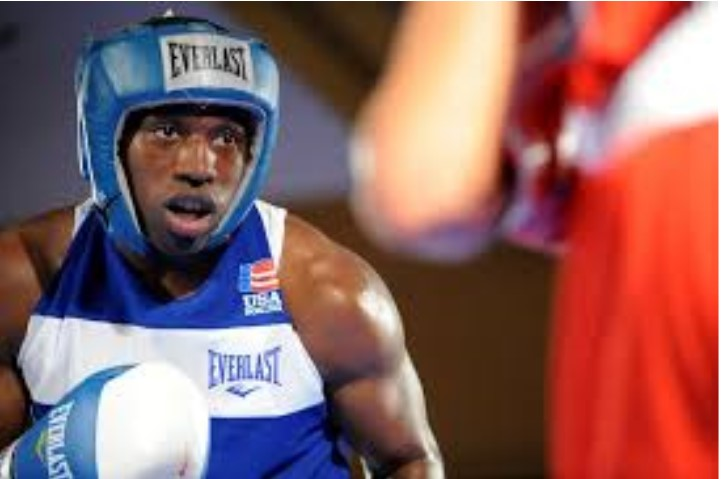face_no_mask: (98, 64, 258, 257)
